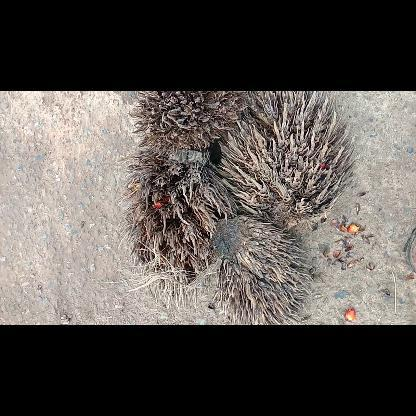Janjang kosong: (218, 91, 352, 229), (118, 150, 232, 310), (213, 214, 313, 324), (130, 90, 246, 156)
